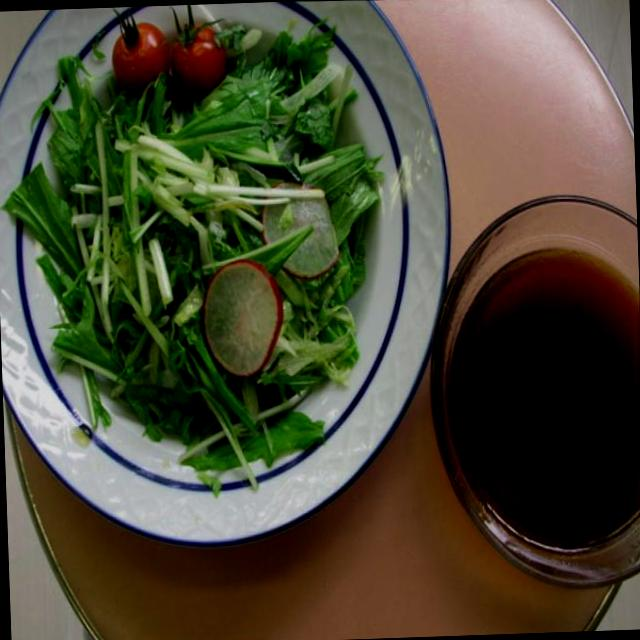Green Salad: (31, 21, 396, 436)
